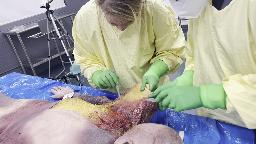scalpel: (110, 67, 122, 99), (142, 98, 166, 104)
